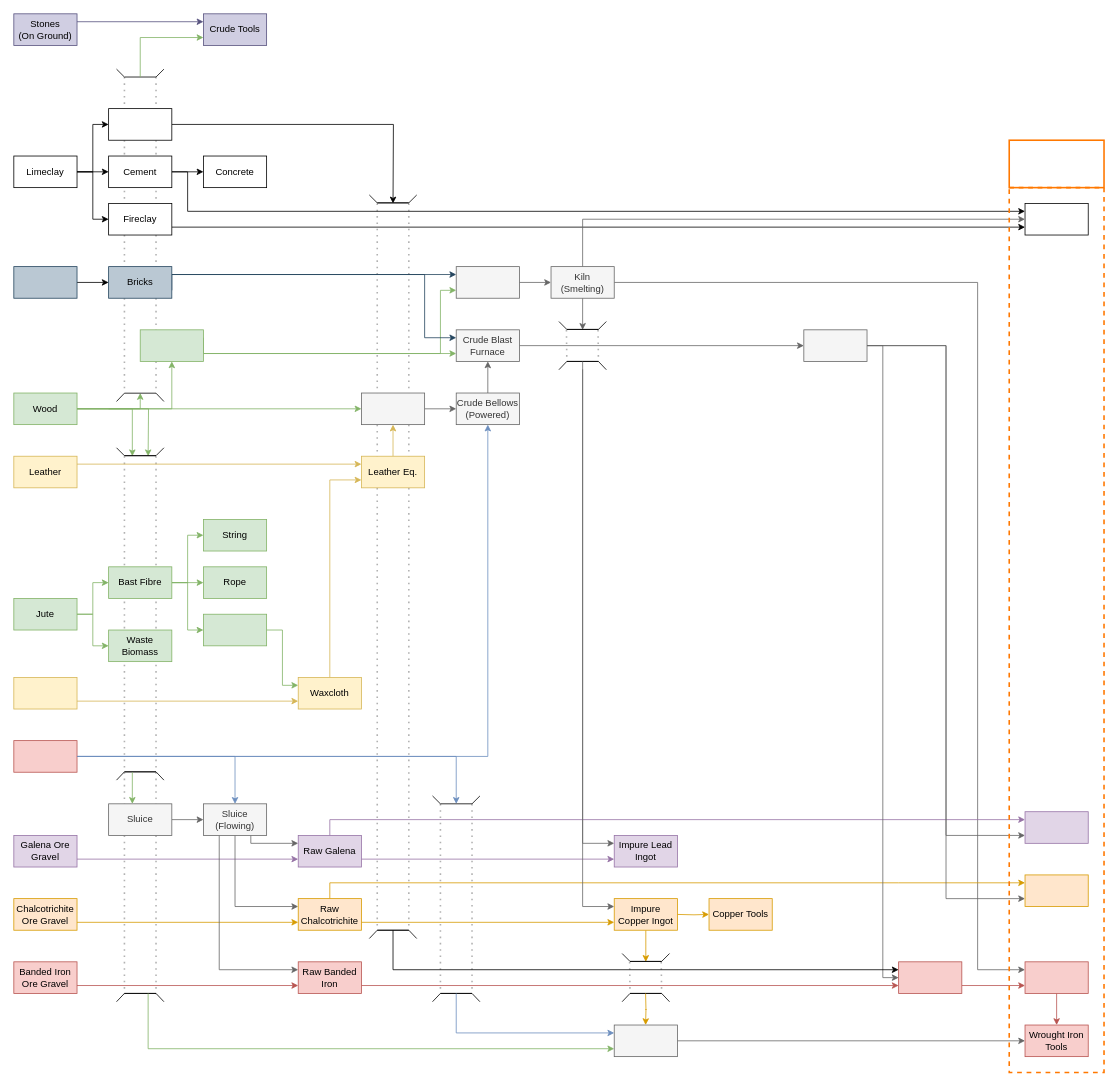
Some shapes in this 1119 by 1087 pixel diagram are drawn without their labels. Each missing label, with the centre of its shape:
"Blast Furnace (Smelting)" goes at (835,345).
"Canvas" goes at (235,629).
"Charcoal" goes at (171,345).
"Clay" goes at (45,282).
"Copper Ingot" goes at (1056,890).
"Crude Bellows" goes at (393,408).
"Crude Kiln" goes at (487,282).
"Final Products" goes at (1056,163).
"Fireclay Bricks" goes at (1056,219).
"Lead Ingot" goes at (1056,827).
"Limestone" goes at (140,124).
"Pig Iron Ingot" goes at (930,977).
"Trip Hammer (Powered)" goes at (645,1040).
"Waterpower" goes at (45,756).
"Wax" goes at (45,693).
"Wrought Iron Ingot" goes at (1056,977).
